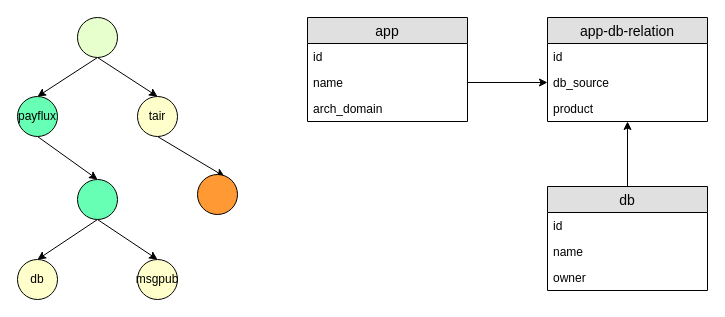
Image size: 725x317. Some labels were removed from this diagram. Each missing label, with the centre of its shape:
"mobilegw" goes at point 97,37.
"nc" goes at point 217,194.
"unitrade" goes at point 97,199.
